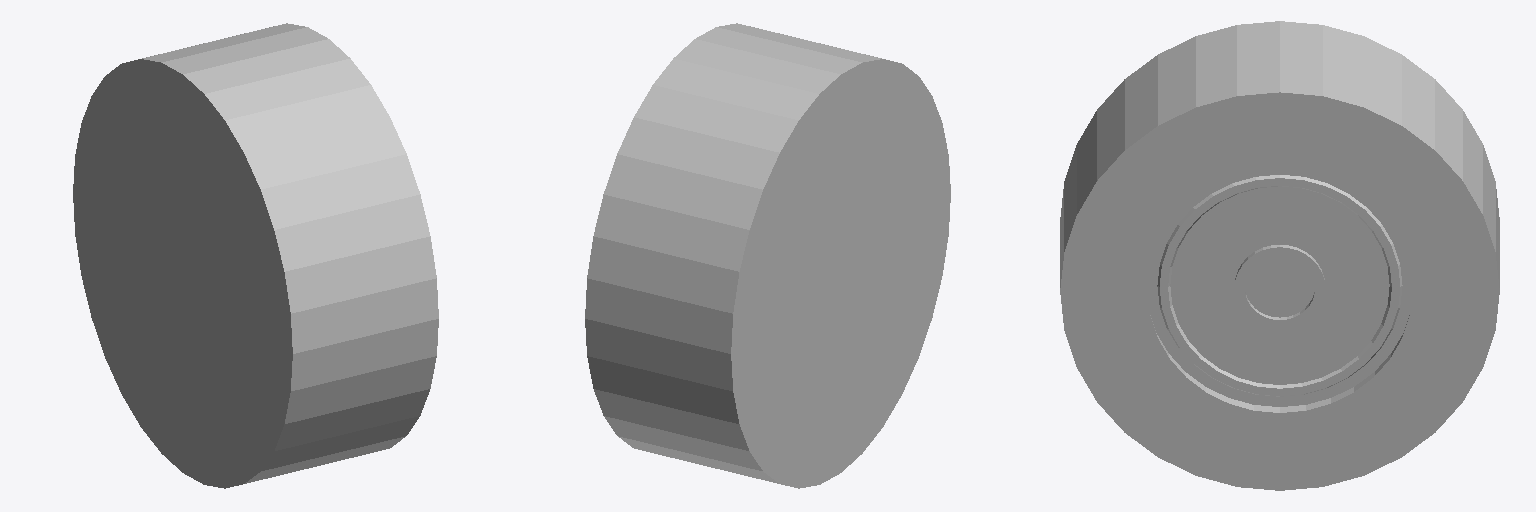
Rendered from lav III_Wheel.obj.
The picture shows the model from 3 angles: view 1: azimuth 30°, elevation 25°; view 2: azimuth 150°, elevation 25°; view 3: azimuth 270°, elevation 25°; orthographic projection.
Visible parts, largest first — view 1: wheel_tire_Cylinder.010, wheel_rim_Cylinder.011; view 2: wheel_tire_Cylinder.010, wheel_rim_Cylinder.011; view 3: wheel_tire_Cylinder.010, wheel_rim_Cylinder.011.
Part boxes in pixels (x1,y1,x2,y2): wheel_tire_Cylinder.010: (73,23,438,488); wheel_rim_Cylinder.011: (94,99,271,447); wheel_tire_Cylinder.010: (585,23,950,488); wheel_rim_Cylinder.011: (752,99,929,447); wheel_tire_Cylinder.010: (1060,21,1499,490); wheel_rim_Cylinder.011: (1148,170,1411,412).
Size of the model in its own units: 0.7675 by 2 by 2.